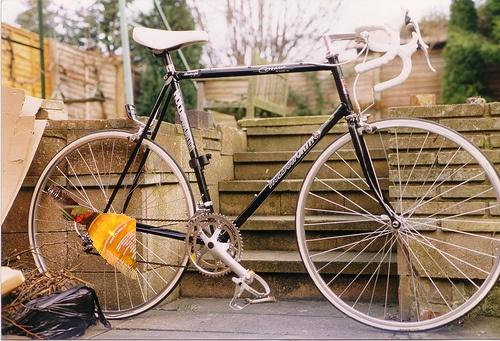tampered: (48, 186, 136, 279)
